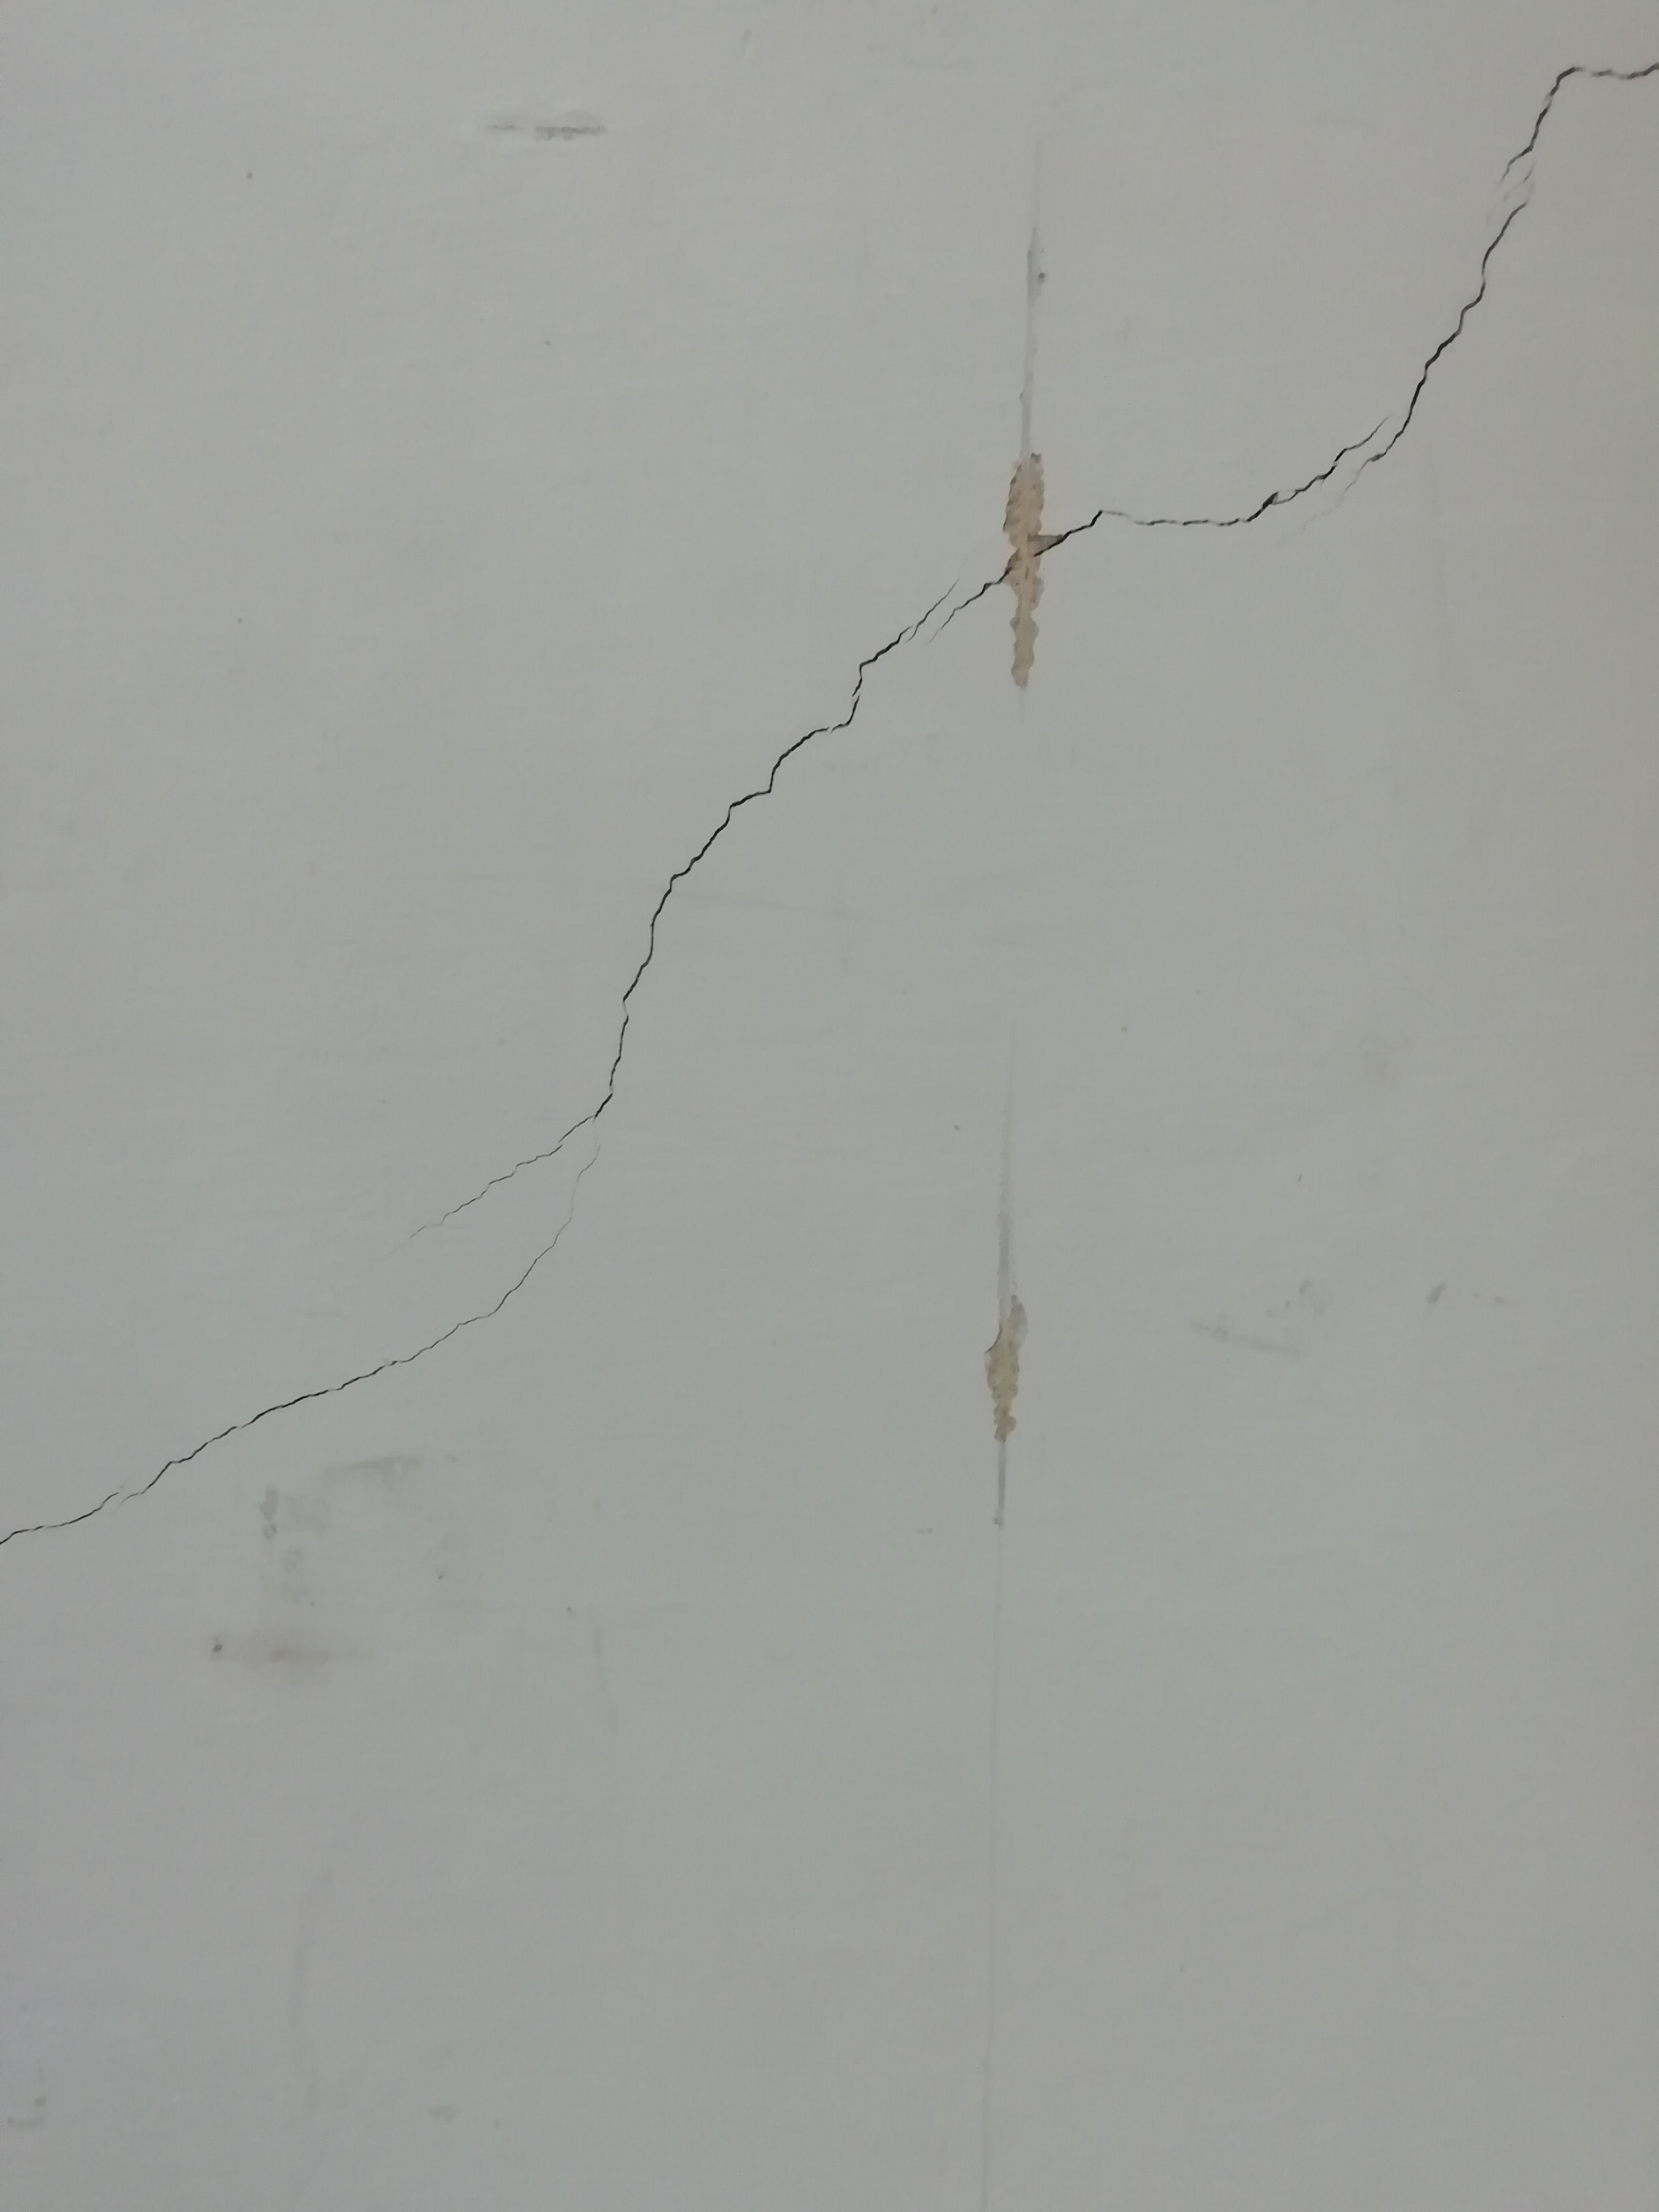Crack: (599, 643, 882, 1115), (23, 1298, 490, 1540), (1419, 52, 1659, 401), (1107, 425, 1387, 540)
